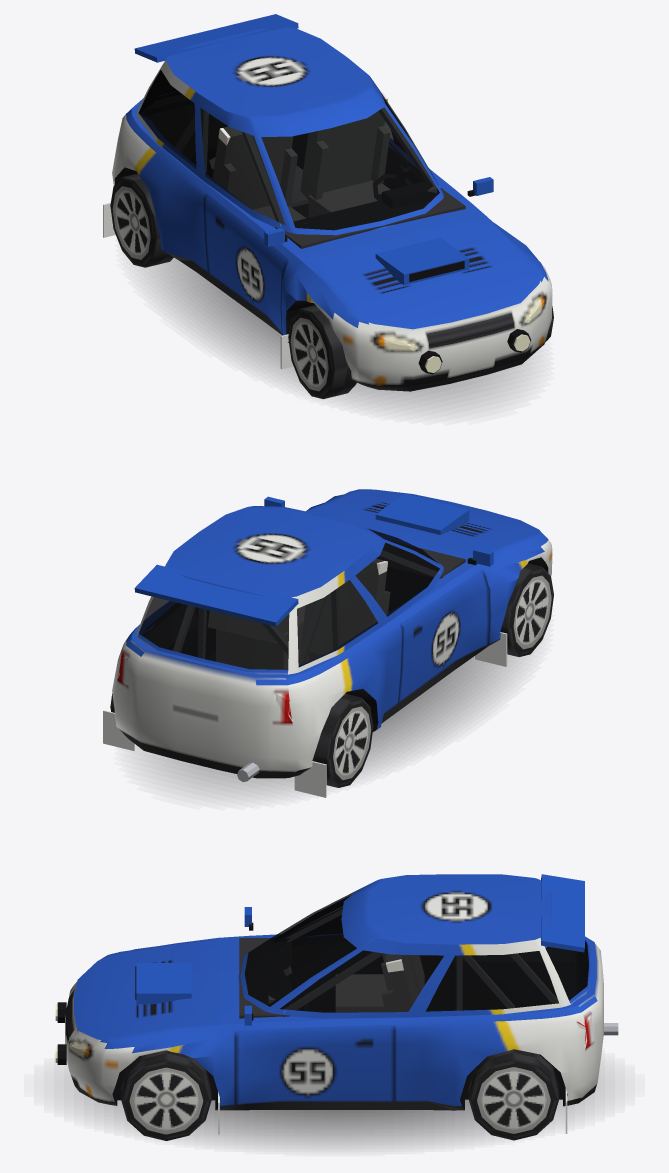
File: agata.glb
3 views of the same model, one above another, from view 1: azimuth 30°, elevation 25°; view 2: azimuth 150°, elevation 25°; view 3: azimuth 270°, elevation 25° (orthographic). The views are drawn at different scales.
Visible parts, largest first — view 1: Carroceria, Interior, Capo_malha, Porta_D_malha, Sombra, Roda_DD, Roda_TD, Tampa_malha, Porta_E_malha, Farol; view 2: Carroceria, Tampa_malha, Interior, Porta_D_malha, Sombra, Capo_malha, Roda_TD, Roda_DD; view 3: Carroceria, Interior, Porta_E_malha, Sombra, Capo_malha, Roda_TE, Roda_DE, Tampa_malha, Porta_D_malha.
Part boxes in pixels (x1,y1,x2,y2): Carroceria: (103, 27, 552, 391); Interior: (140, 89, 465, 248); Capo_malha: (308, 217, 540, 328); Porta_D_malha: (204, 114, 292, 333); Sombra: (146, 258, 529, 411); Roda_DD: (288, 305, 356, 399); Roda_TD: (110, 173, 173, 267); Tampa_malha: (134, 14, 298, 112); Porta_E_malha: (371, 81, 493, 196); Farol: (378, 298, 544, 351); Carroceria: (103, 489, 552, 797); Tampa_malha: (130, 564, 298, 757); Interior: (142, 541, 465, 669); Porta_D_malha: (371, 536, 493, 702); Sombra: (139, 655, 522, 796); Capo_malha: (312, 489, 540, 554); Roda_TD: (312, 693, 373, 787); Roda_DD: (500, 563, 553, 656); Carroceria: (55, 874, 618, 1134); Interior: (239, 906, 587, 1018); Porta_E_malha: (236, 938, 394, 1104); Sombra: (64, 1071, 604, 1147); Capo_malha: (79, 940, 218, 1039); Roda_TE: (468, 1049, 559, 1140); Roda_DE: (121, 1050, 211, 1140); Tampa_malha: (540, 874, 603, 1075); Porta_D_malha: (244, 897, 347, 940).
Bounding box in the file's own units: 2.38 × 1.38 × 4.39.
Materials: 14 (5 with a texture image).
